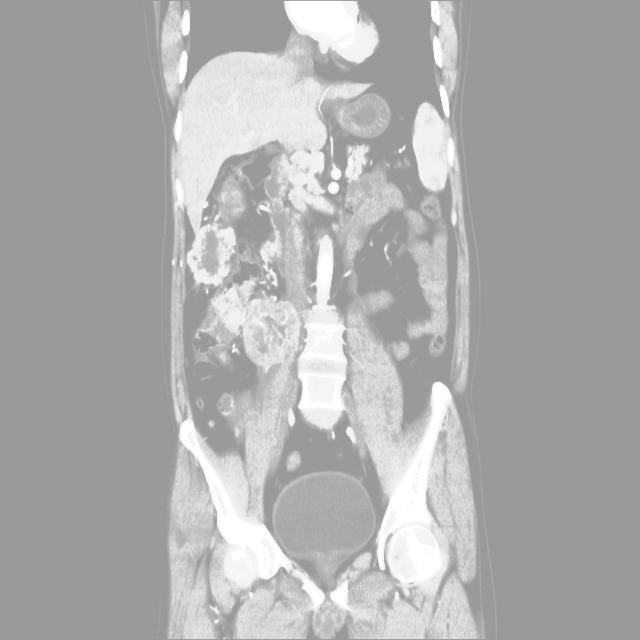TUMOR: (147, 134, 489, 399)
